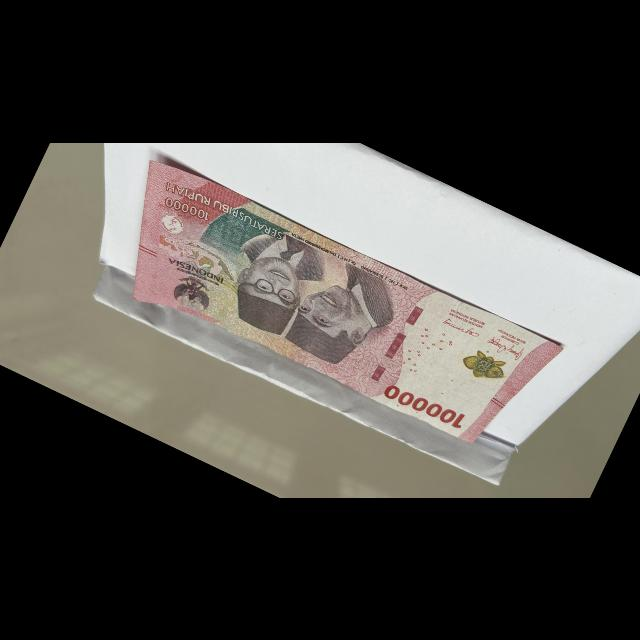Palsu-100k: (91, 155, 569, 471)
Tinta-Palsu-100k: (456, 343, 513, 389)
